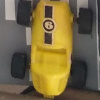amarillo_norte: (11, 2, 92, 98)
